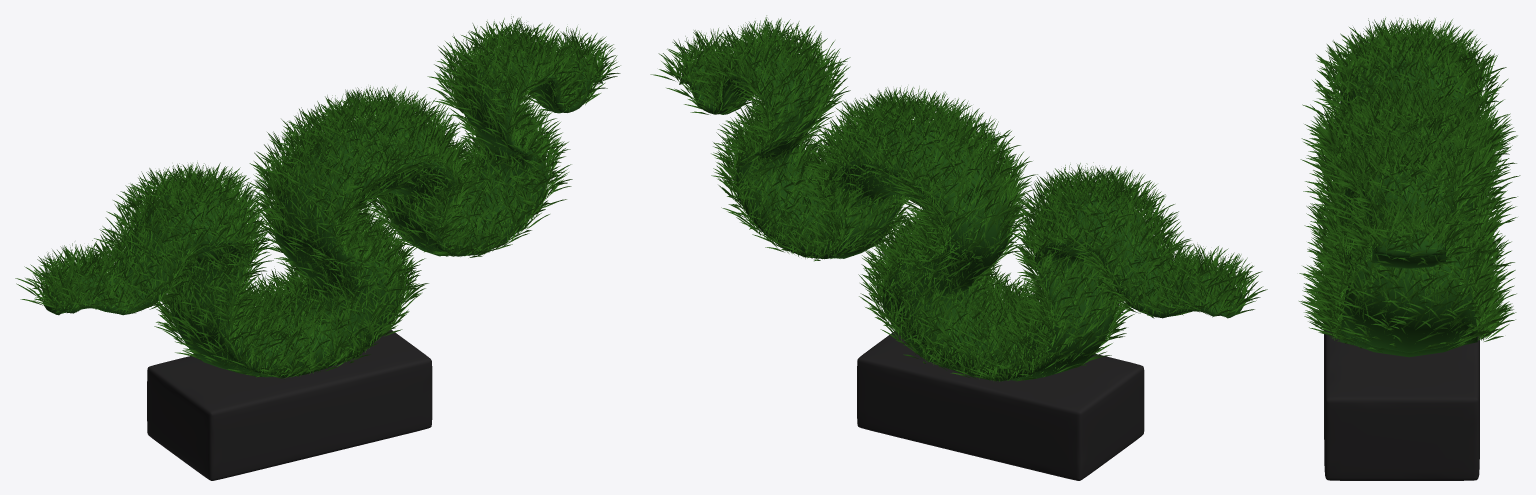
Rendered from truc.obj.
3 renders of one model, left to right at view 1: azimuth 30°, elevation 25°; view 2: azimuth 150°, elevation 25°; view 3: azimuth 270°, elevation 25°, orthographic. The views are drawn at different scales.
Visible parts, largest first — view 1: Plane.003, Plane.002, Landscape_Abstract_sculpture; view 2: Plane.003, Plane.002, Landscape_Abstract_sculpture; view 3: Plane.003, Landscape_Abstract_sculpture, Plane.002.
Boxes of the visible parts, x1,y1,x2,y2 form: Plane.003: (15, 16, 620, 379); Plane.002: (43, 48, 602, 377); Landscape_Abstract_sculpture: (147, 329, 432, 480); Plane.003: (650, 15, 1267, 382); Plane.002: (679, 48, 1243, 381); Landscape_Abstract_sculpture: (857, 331, 1144, 480); Plane.003: (1299, 17, 1520, 352); Landscape_Abstract_sculpture: (1324, 330, 1479, 480); Plane.002: (1340, 53, 1477, 357).
Size of the model in its own units: 4.62 by 2.6 by 1.27.
